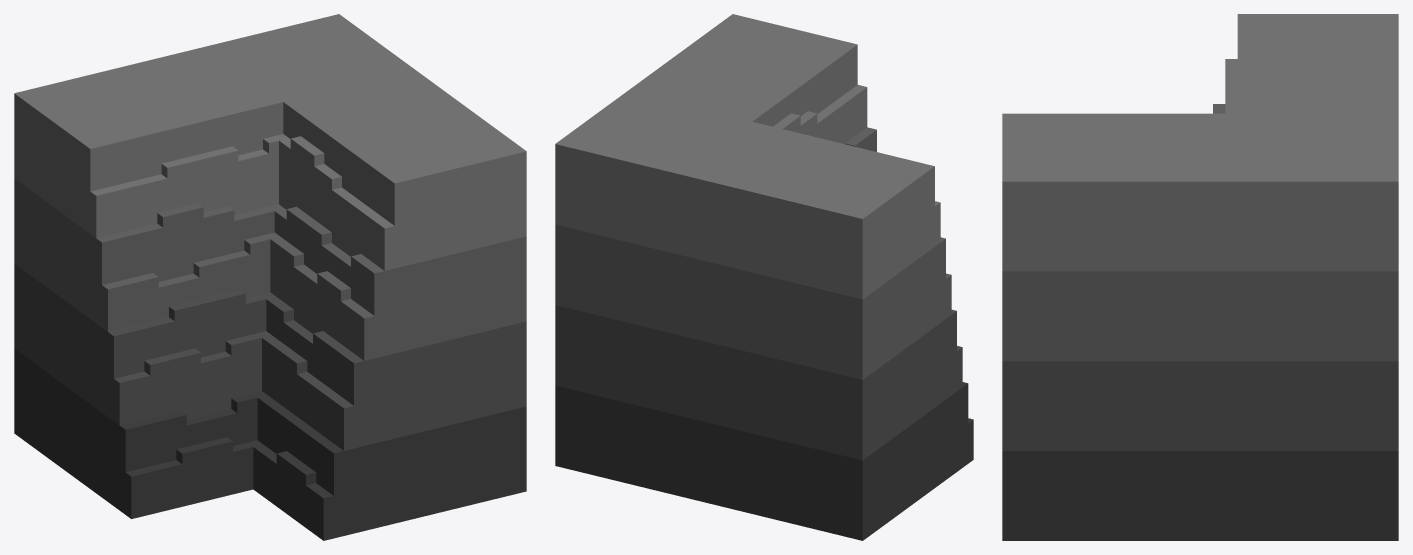
The model's file is mountain-edge-inner-2.gltf.
The picture shows the model from 3 angles, left to right: view 1: azimuth 30°, elevation 25°; view 2: azimuth 150°, elevation 25°; view 3: azimuth 270°, elevation 25°; orthographic projection. The views are drawn at different scales.
Parts seen in each view (by area): view 1: mountain-edge-inner-2; view 2: mountain-edge-inner-2; view 3: mountain-edge-inner-2.
Boxes of the visible parts, bbox=[...] form: mountain-edge-inner-2: bbox=[14, 14, 526, 540]; mountain-edge-inner-2: bbox=[555, 14, 973, 540]; mountain-edge-inner-2: bbox=[1002, 14, 1398, 540].
Bounding box in the file's own units: 3.2 × 3.2 × 3.2.
Materials: 1 (1 with a texture image).
